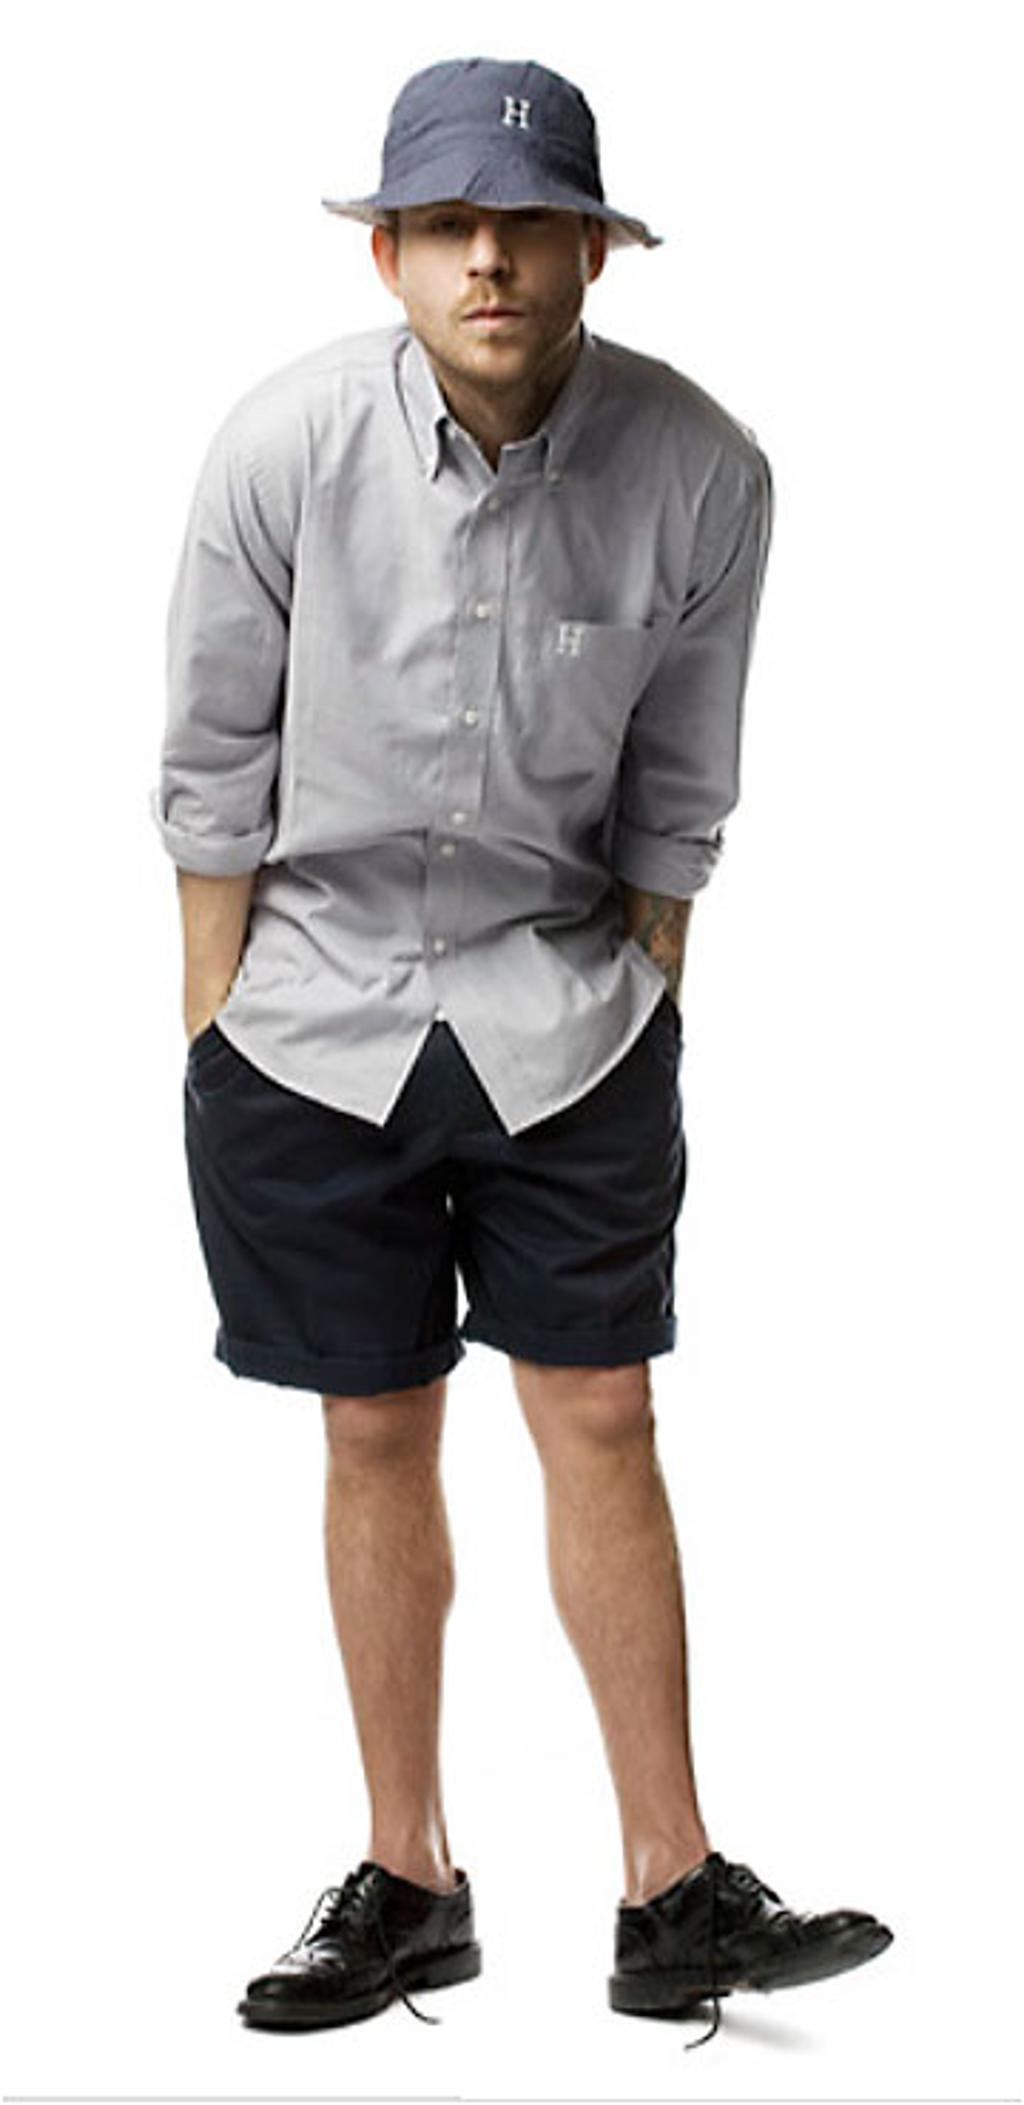face: (399, 173, 592, 383)
